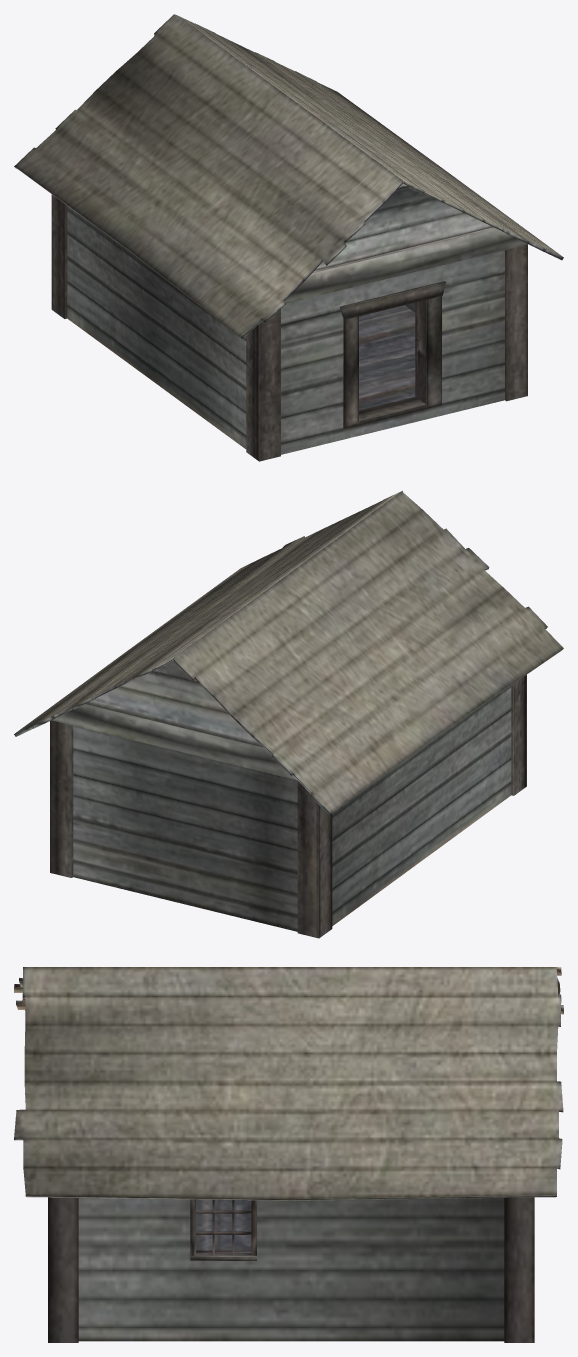
File: old-hut.lod1.glb
3 renders of one model, top to bottom at view 1: azimuth 30°, elevation 25°; view 2: azimuth 150°, elevation 25°; view 3: azimuth 270°, elevation 25°, orthographic. The views are drawn at different scales.
Parts seen in each view (by area): view 1: hut_T_hUT_0; view 2: hut_T_hUT_0; view 3: hut_T_hUT_0.
Part boxes in pixels (box(x1,y1,x2,y2)): hut_T_hUT_0: box(14, 14, 563, 461); hut_T_hUT_0: box(14, 490, 563, 938); hut_T_hUT_0: box(14, 967, 563, 1342).
Bounding box in the file's own units: 6.25 × 4.68 × 7.8.
Materials: 1 (1 with a texture image).
